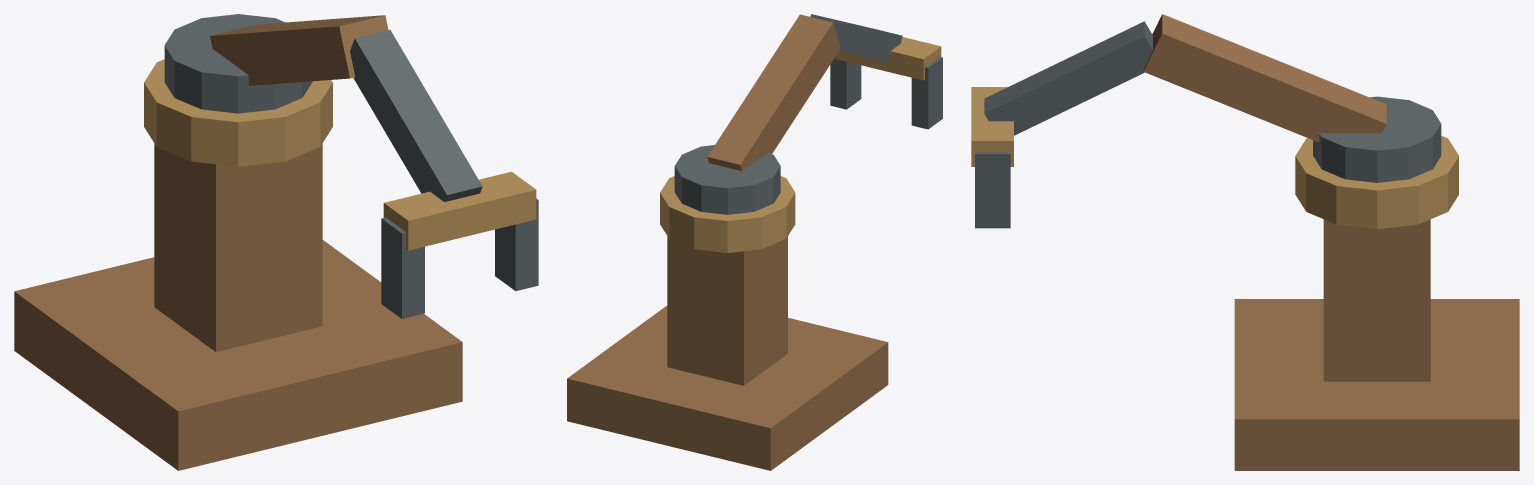
File: vf_feeder.glb
The picture shows the model from 3 angles, left to right: view 1: azimuth 30°, elevation 25°; view 2: azimuth 150°, elevation 25°; view 3: azimuth 270°, elevation 25°; orthographic projection. The views are drawn at different scales.
Parts seen in each view (by area): view 1: Static, Arm_Yaw; view 2: Static, Arm_Yaw; view 3: Static, Arm_Yaw.
Boxes of the visible parts, x1,y1,x2,y2 form: Static: [14, 59, 462, 470]; Arm_Yaw: [164, 14, 538, 318]; Static: [567, 176, 888, 470]; Arm_Yaw: [674, 14, 942, 214]; Static: [1234, 136, 1519, 470]; Arm_Yaw: [971, 14, 1441, 228].
Size of the model in its own units: 0.8 by 1.2 by 1.54.
